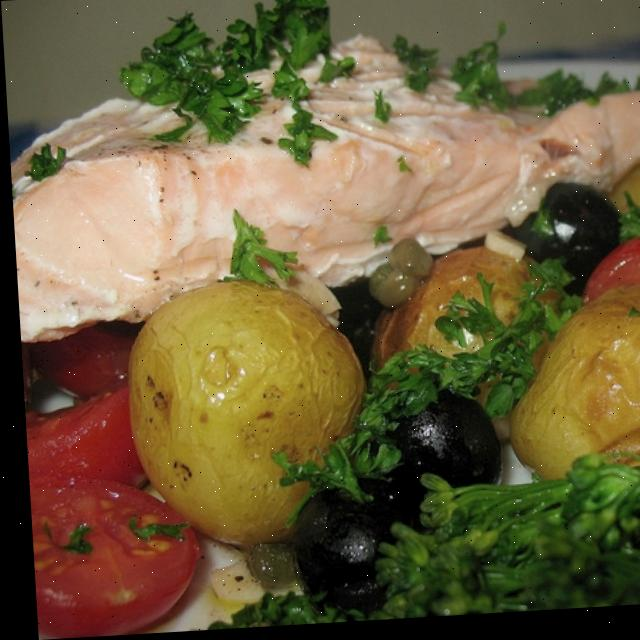熟制海鲜: (1, 0, 640, 640)
